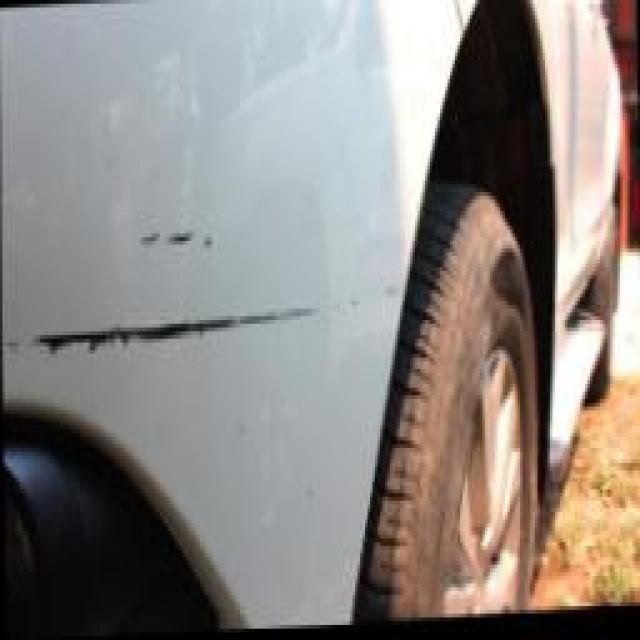Bumper: (0, 162, 396, 424)
